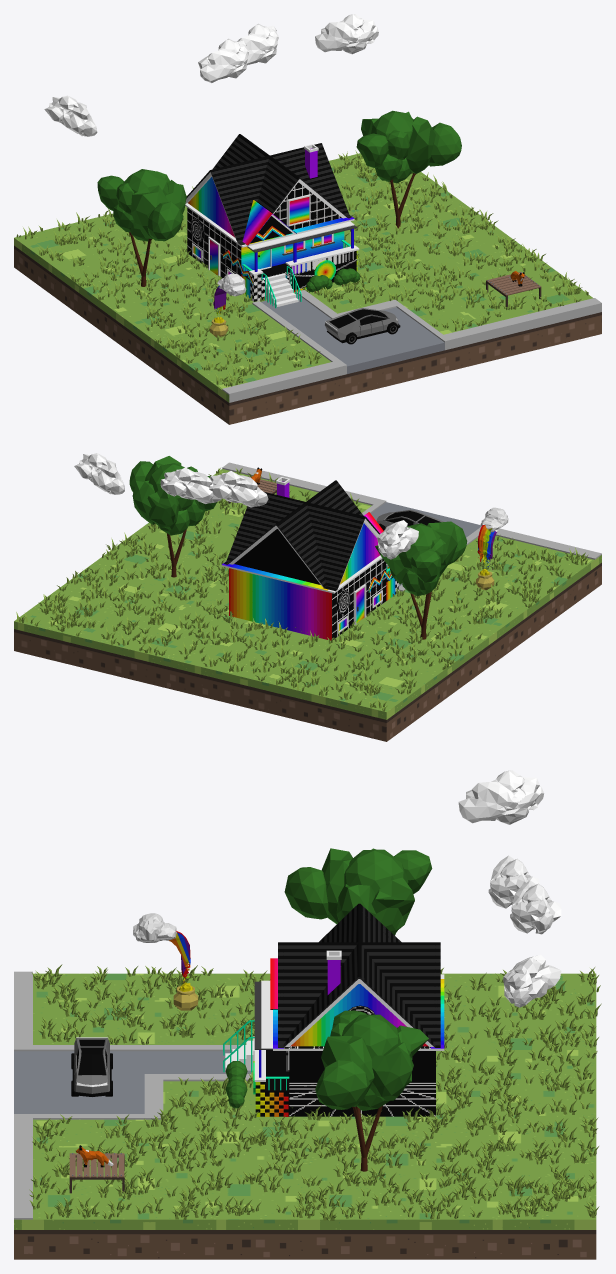
3 views of the same model, one above another, from view 1: azimuth 30°, elevation 25°; view 2: azimuth 150°, elevation 25°; view 3: azimuth 270°, elevation 25° (orthographic). The views are drawn at different scales.
Visible parts, largest first — view 1: Cube.006, Cube.1320, Circle.012_Grass_0.192, Cube.007, tree, tree.001, VEHICLES_CYBERTRUCK, OBJRANDOM_RAINBOW, Cube.009; view 2: Cube.006, Cube.1320, Circle.012_Grass_0.192, Cube.007, tree.001, tree, OBJRANDOM_RAINBOW, VEHICLES_CYBERTRUCK; view 3: Cube.006, Circle.012_Grass_0.192, Cube.1320, tree, Cube.007, tree.001, VEHICLES_CYBERTRUCK, OBJRANDOM_RAINBOW, Cube.009.
Boxes of the visible parts, bbox=[...] form: Cube.006: bbox=[14, 153, 601, 424]; Cube.1320: bbox=[185, 134, 359, 308]; Circle.012_Grass_0.192: bbox=[16, 150, 588, 386]; Cube.007: bbox=[44, 14, 378, 136]; tree: bbox=[356, 110, 461, 228]; tree.001: bbox=[97, 169, 186, 286]; VEHICLES_CYBERTRUCK: bbox=[325, 308, 400, 344]; OBJRANDOM_RAINBOW: bbox=[209, 273, 246, 337]; Cube.009: bbox=[486, 272, 541, 306]; Cube.006: bbox=[14, 462, 601, 741]; Cube.1320: bbox=[221, 477, 398, 640]; Circle.012_Grass_0.192: bbox=[16, 468, 588, 711]; Cube.007: bbox=[74, 453, 418, 559]; tree.001: bbox=[375, 521, 467, 639]; tree: bbox=[129, 456, 216, 577]; OBJRANDOM_RAINBOW: bbox=[475, 507, 508, 590]; VEHICLES_CYBERTRUCK: bbox=[376, 509, 444, 530]; Cube.006: bbox=[14, 971, 596, 1259]; Circle.012_Grass_0.192: bbox=[29, 964, 601, 1220]; Cube.1320: bbox=[223, 903, 444, 1116]; tree: bbox=[315, 1010, 428, 1171]; Cube.007: bbox=[458, 770, 561, 1007]; tree.001: bbox=[284, 848, 432, 935]; VEHICLES_CYBERTRUCK: bbox=[71, 1037, 112, 1096]; OBJRANDOM_RAINBOW: bbox=[133, 913, 198, 1010]; Cube.009: bbox=[69, 1153, 124, 1193].
Size of the model in its own units: 4071 by 2175 by 4040.
Materials: 34 (5 with a texture image).
